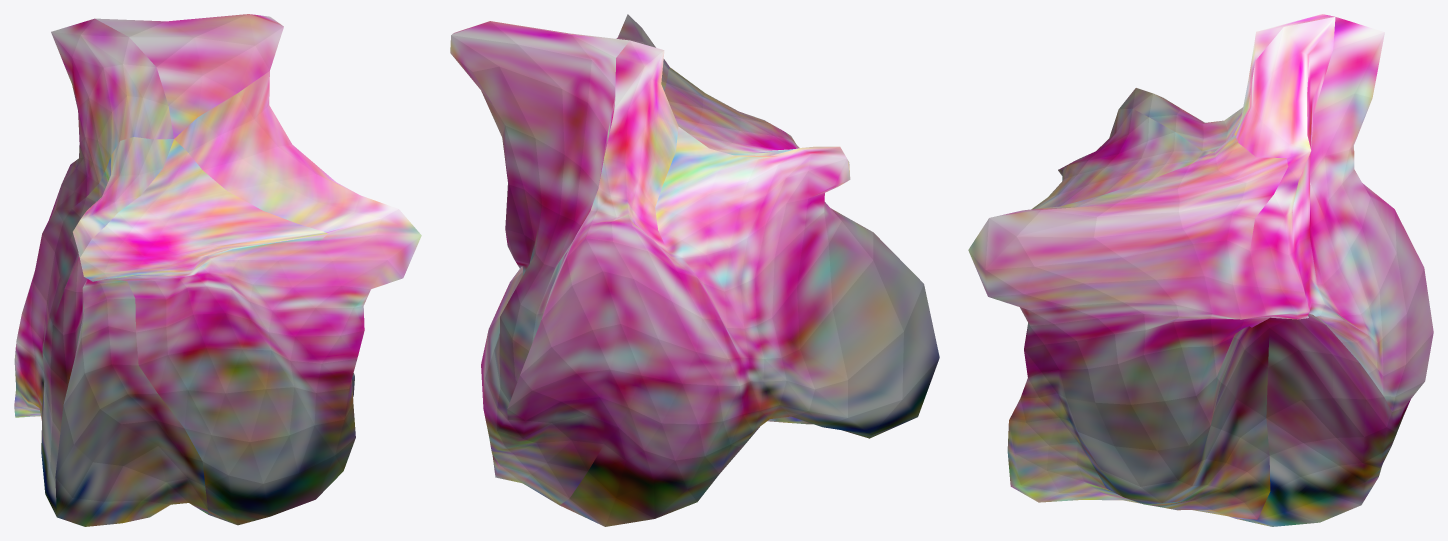
The model's file is a_pink_bicycle.gltf.
3 renders of one model, left to right at view 1: azimuth 30°, elevation 25°; view 2: azimuth 150°, elevation 25°; view 3: azimuth 270°, elevation 25°, orthographic. The views are drawn at different scales.
Parts seen in each view (by area): view 1: pMesh1; view 2: pMesh1; view 3: pMesh1.
Part boxes in pixels (left/top/right/bottom): pMesh1: left=14, top=14, right=421, bottom=526; pMesh1: left=450, top=14, right=939, bottom=526; pMesh1: left=968, top=14, right=1433, bottom=526.
Bounding box in the file's own units: 2.51 × 2.98 × 2.75.
Materials: 1 (1 with a texture image).
